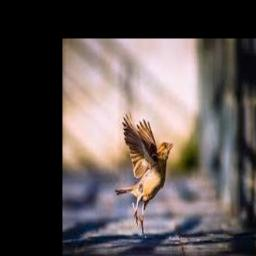Sparrow: (116, 111, 173, 238)
